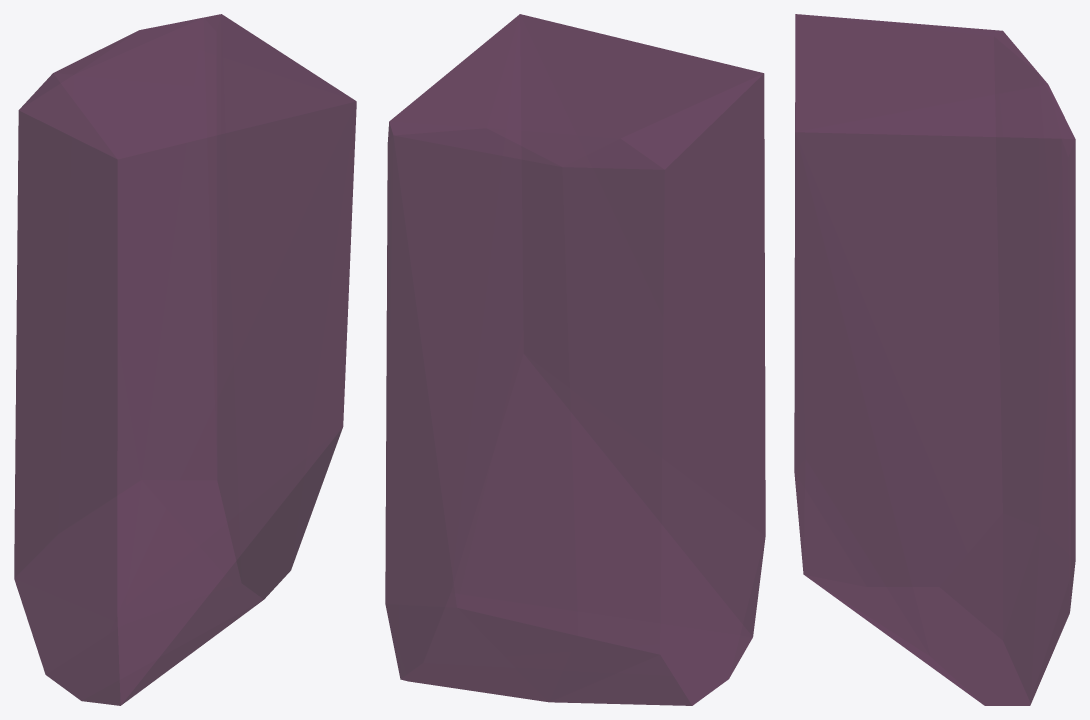
3 views of the same model, side by side, from view 1: azimuth 30°, elevation 25°; view 2: azimuth 150°, elevation 25°; view 3: azimuth 270°, elevation 25° (orthographic). The views are drawn at different scales.
Visible parts, largest first — view 1: Shape_IndexedFaceSet.009_Shape_IndexedFaceSet.9095; view 2: Shape_IndexedFaceSet.009_Shape_IndexedFaceSet.9095; view 3: Shape_IndexedFaceSet.009_Shape_IndexedFaceSet.9095.
Part boxes in pixels (x1=…): Shape_IndexedFaceSet.009_Shape_IndexedFaceSet.9095: x1=14, y1=14, x2=356, y2=705; Shape_IndexedFaceSet.009_Shape_IndexedFaceSet.9095: x1=385, y1=14, x2=765, y2=705; Shape_IndexedFaceSet.009_Shape_IndexedFaceSet.9095: x1=794, y1=14, x2=1075, y2=705.
Size of the model in its own units: 0.0929 by 0.2098 by 0.0929.
